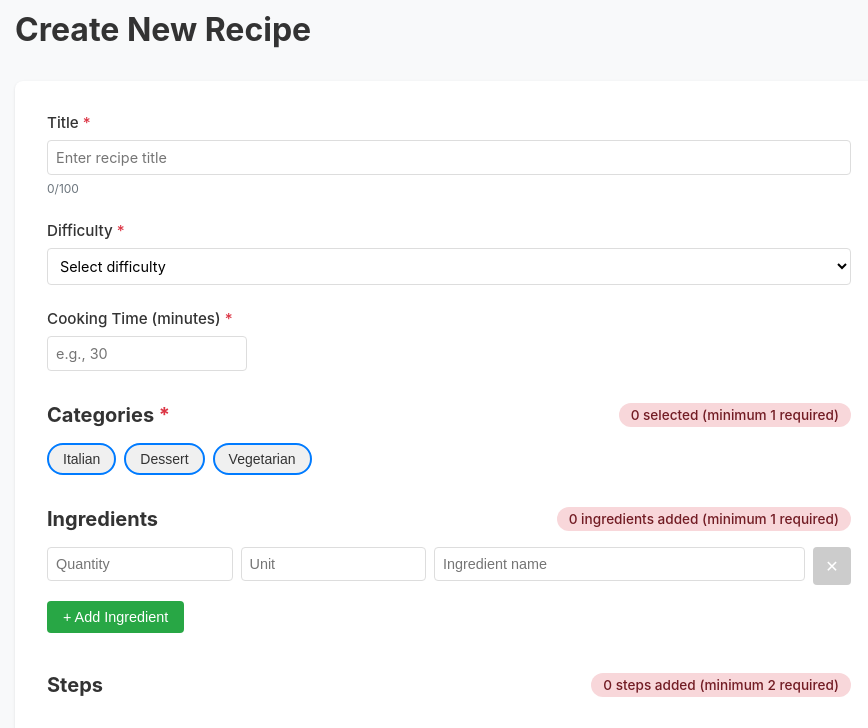
Test case: CreateRecipeView › Ingredients Section › adds a new ingredient row when Add Ingredient is clicked
Expected: the number of fields with placeholder "Quantity" is 1, [47, 547, 232, 581]
Click the button "+ Add Ingredient". click: (116, 617)
box: [47, 601, 184, 633]
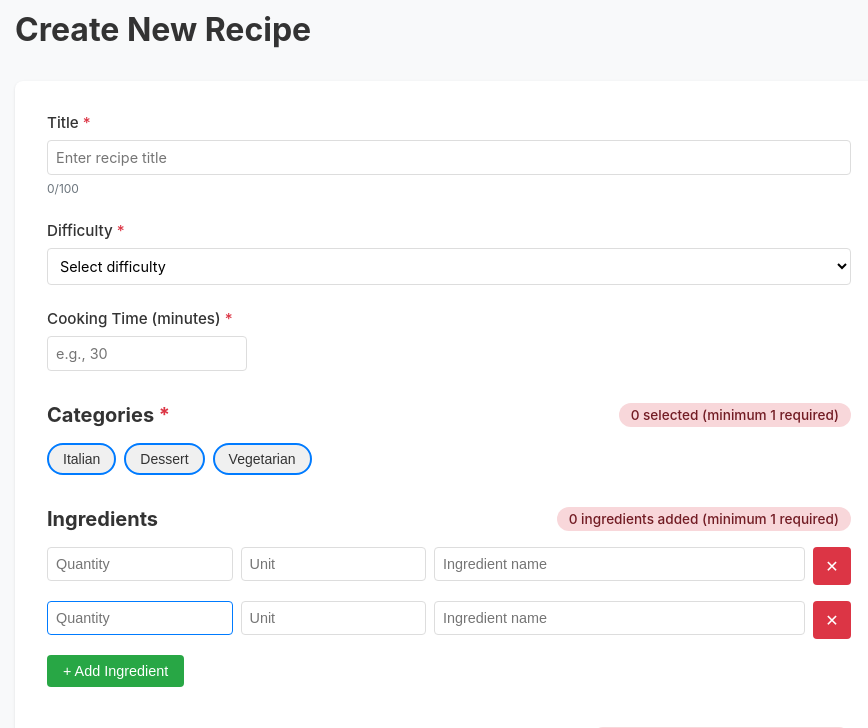
Now the number of fields with placeholder "Quantity" is 2, box [47, 547, 232, 581]; [47, 601, 232, 635]
